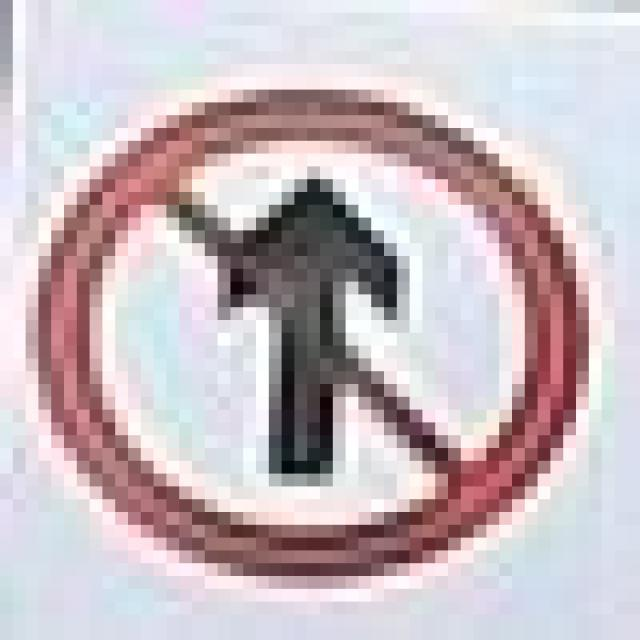straight prohibited: (27, 76, 598, 594)
